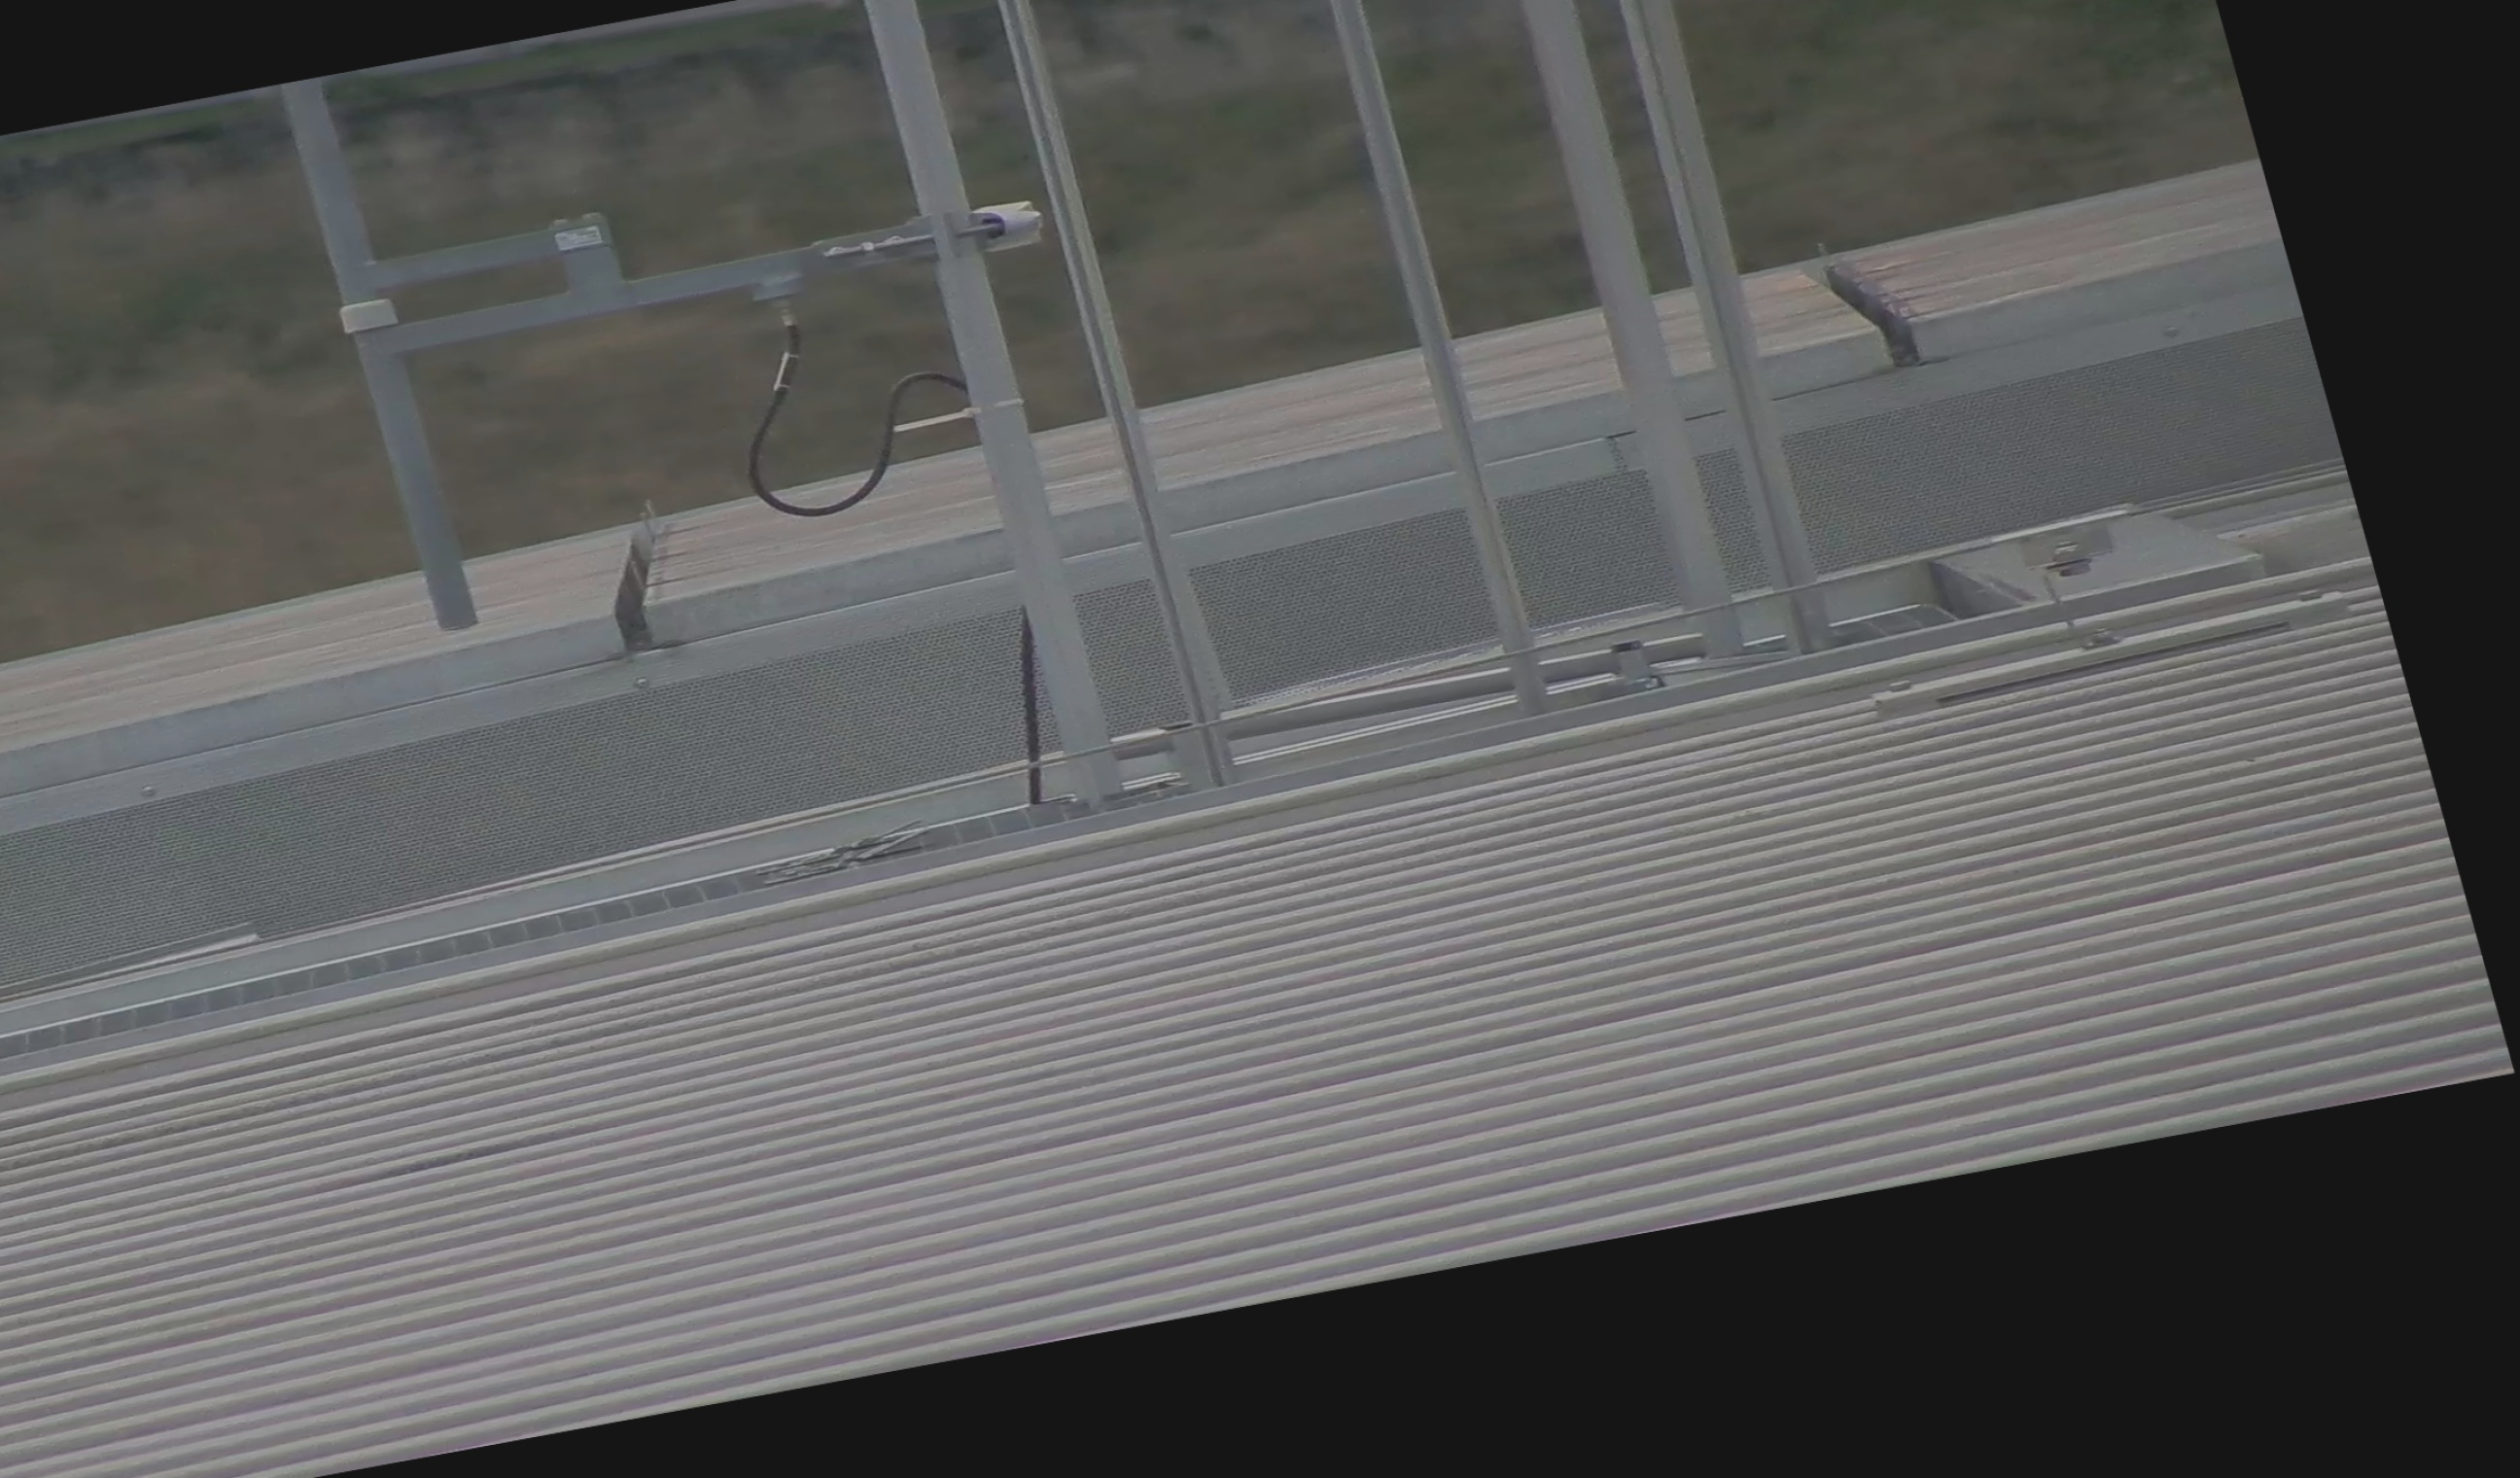Other: (1801, 229, 1956, 382)
